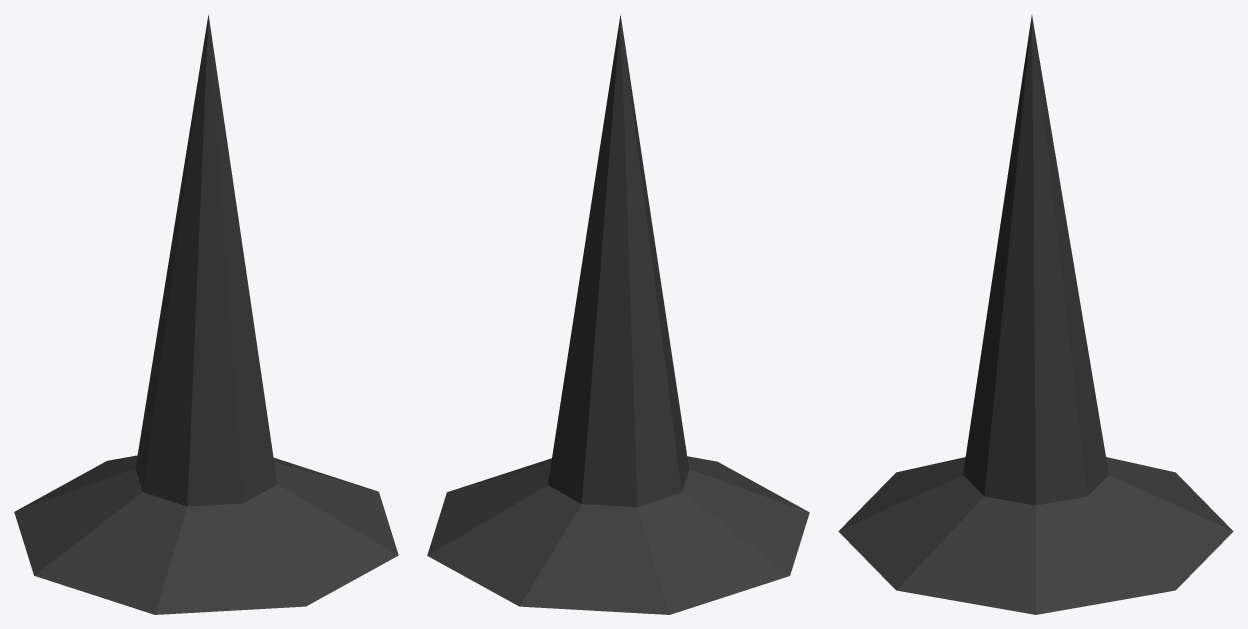
Rendered from Stal_2E_LOD.fbx.
3 renders of one model, left to right at view 1: azimuth 30°, elevation 25°; view 2: azimuth 150°, elevation 25°; view 3: azimuth 270°, elevation 25°, orthographic.
Visible parts, largest first — view 1: pCone38; view 2: pCone38; view 3: pCone38.
Boxes of the visible parts, x1=… form: pCone38: x1=14, y1=14, x2=398, y2=614; pCone38: x1=427, y1=14, x2=809, y2=614; pCone38: x1=838, y1=15, x2=1233, y2=614.
Size of the model in its own units: 2.71 by 3.91 by 2.71.
